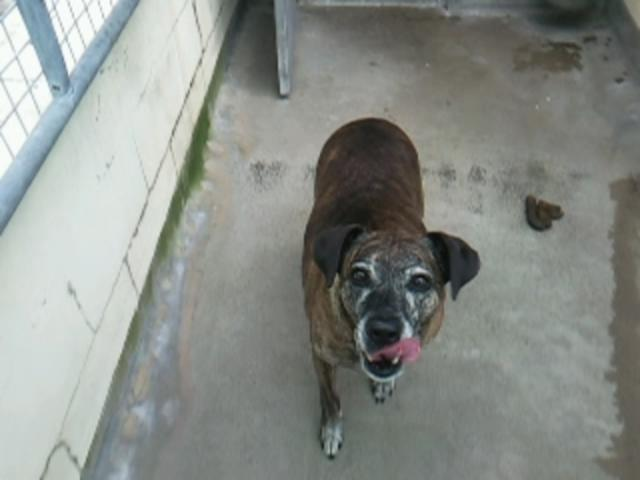Dog: (300, 116, 482, 458)
